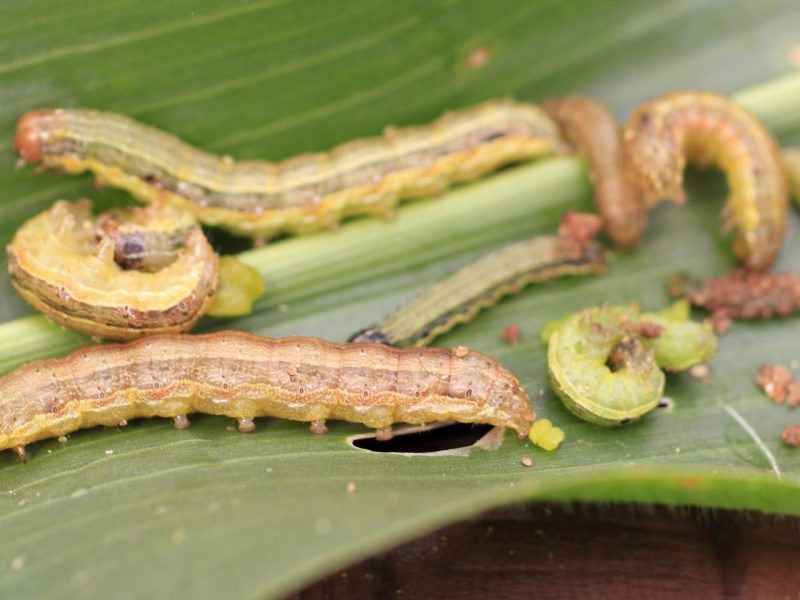Armyworm: (3, 323, 545, 473), (18, 196, 223, 343)
